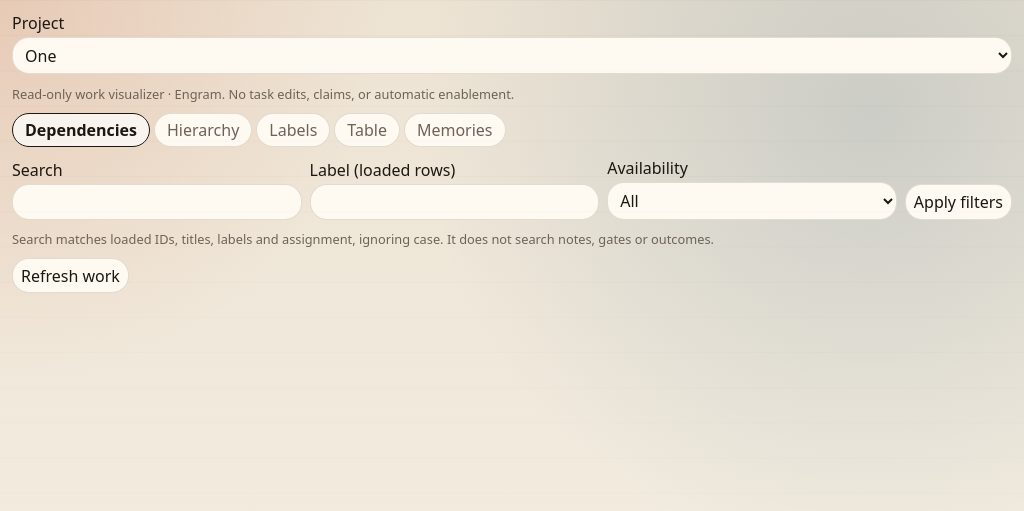
Scenario: Work memories › only reads memories when their separate Work view is opened
Click the button "Memories" at (455, 130), box top-left (404, 113), bottom-right (506, 147)
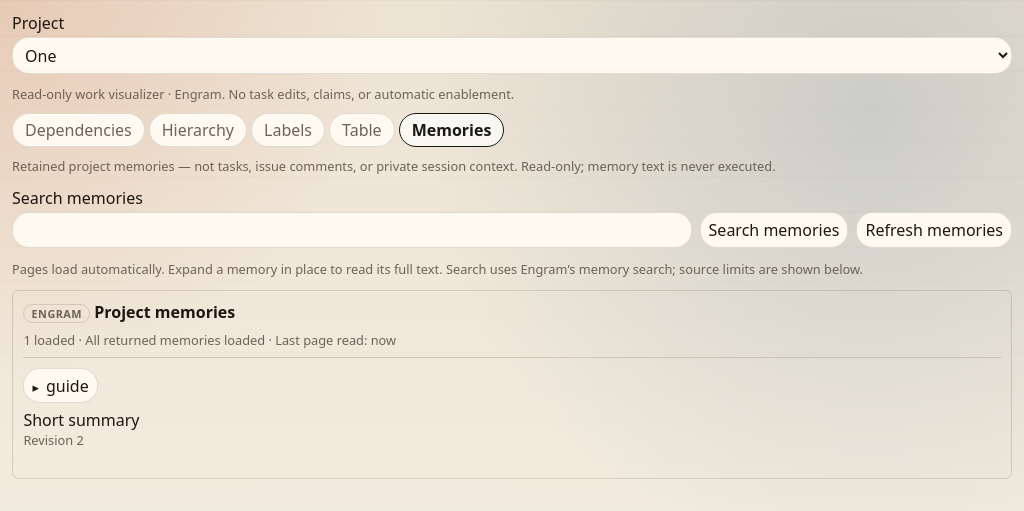
Check: the button "▸ guide" is shown, box top-left (23, 368), bottom-right (98, 404)
